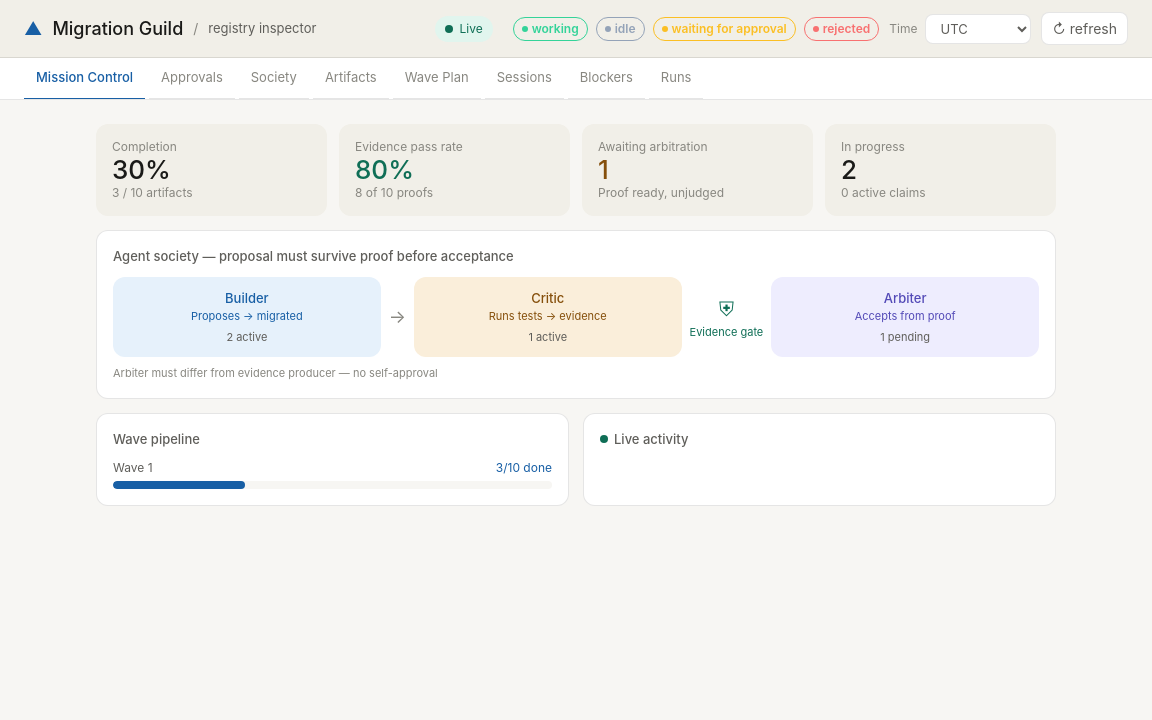
Test: App shared dashboard state (issue #297) › global refresh visibly updates Mission Control from shell-owned state
Expected: the text "30%" is shown, [112, 154, 171, 184]
Expected: the text "3 / 10 artifacts" is shown, [112, 185, 193, 200]
Click the button "↻ refresh" at (1085, 28), box [1042, 12, 1128, 45]
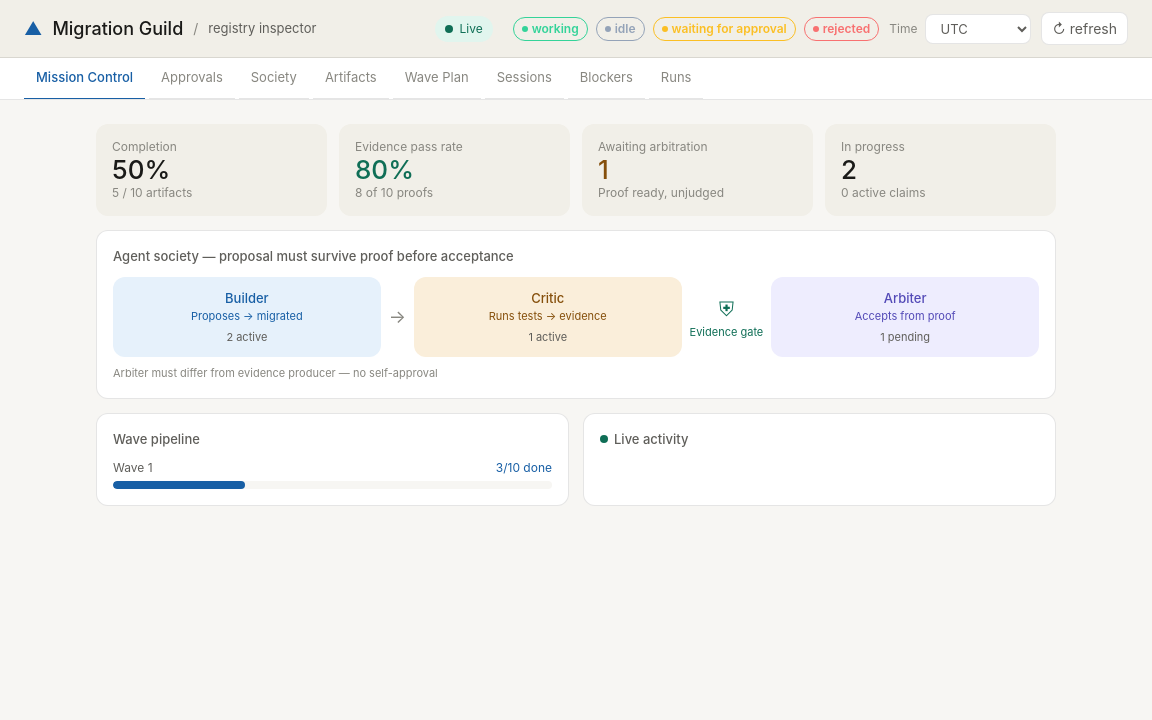
Expected: the text "50%" is shown, [112, 154, 170, 184]
Expected: the text "5 / 10 artifacts" is shown, [112, 185, 192, 200]
Expected: the text "30%" is gone
